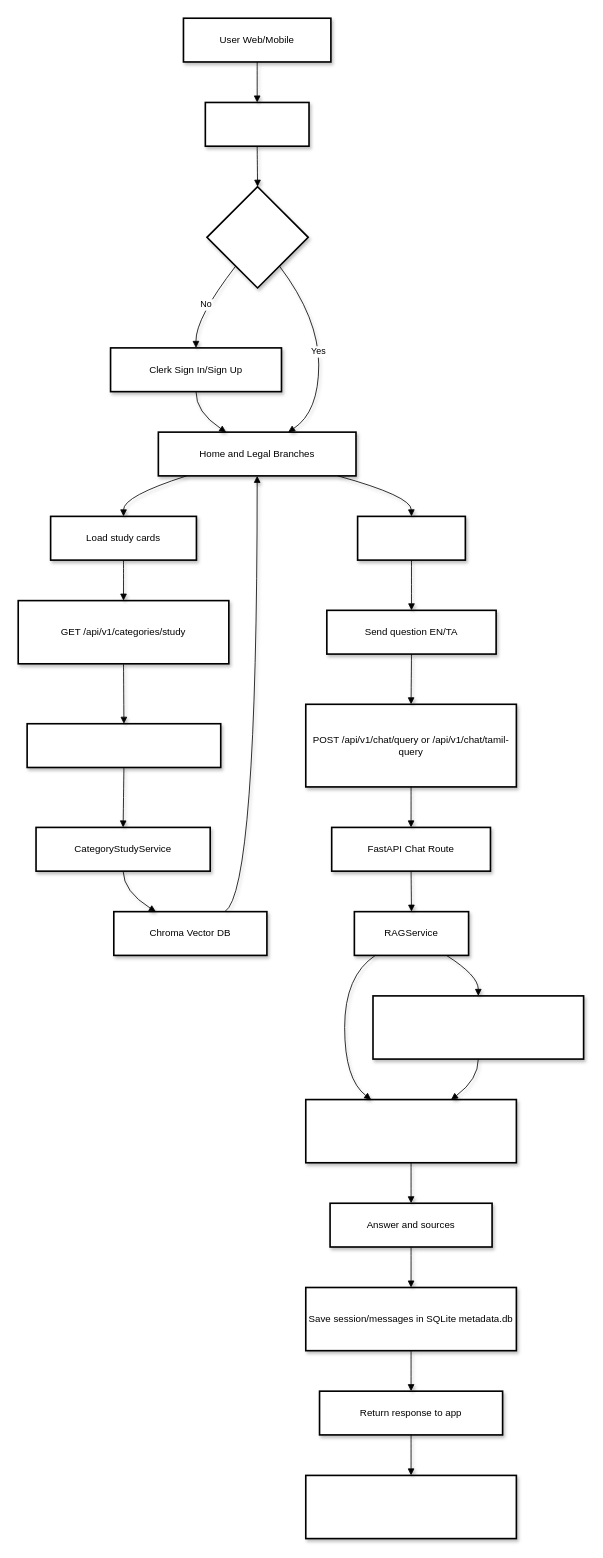
This 603x1558 diagram has some shape labels left out. The centre of each missing label's shape, as x and y in pixels:
FastAPI Categories Route: (124,746)
LLM call via GeminiService OpenAI-compatible API: (411,1132)
Open App: (257,125)
Render answer, references, history: (411,1508)
Retrieve context from Chroma: (479,1028)
Signed in?: (257,238)
Start Chat: (412,539)
